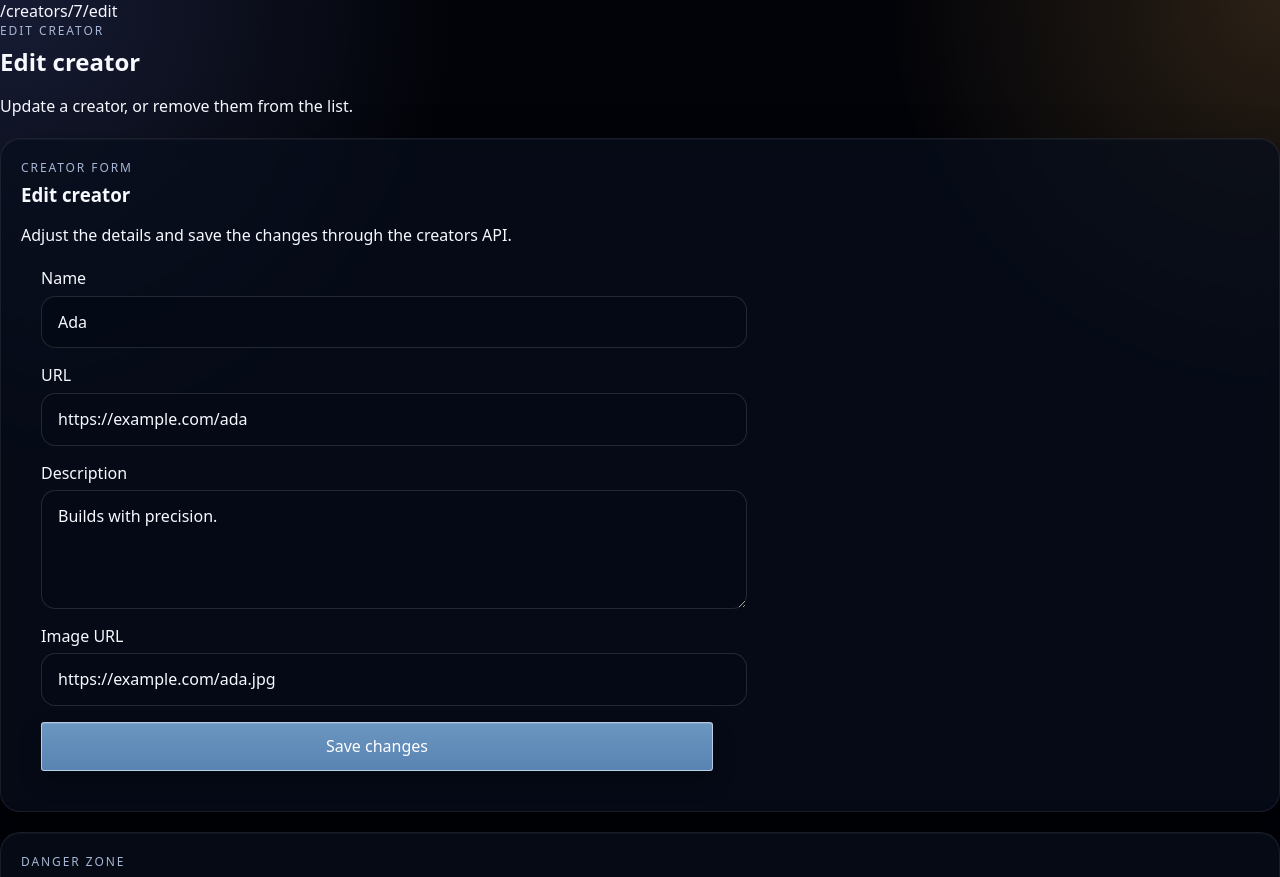
EditCreator › shows a readable error when update fails
Replace the text in the field labelled "Name" with "Ada Lovelace" at (394, 322), box [41,296,747,348]
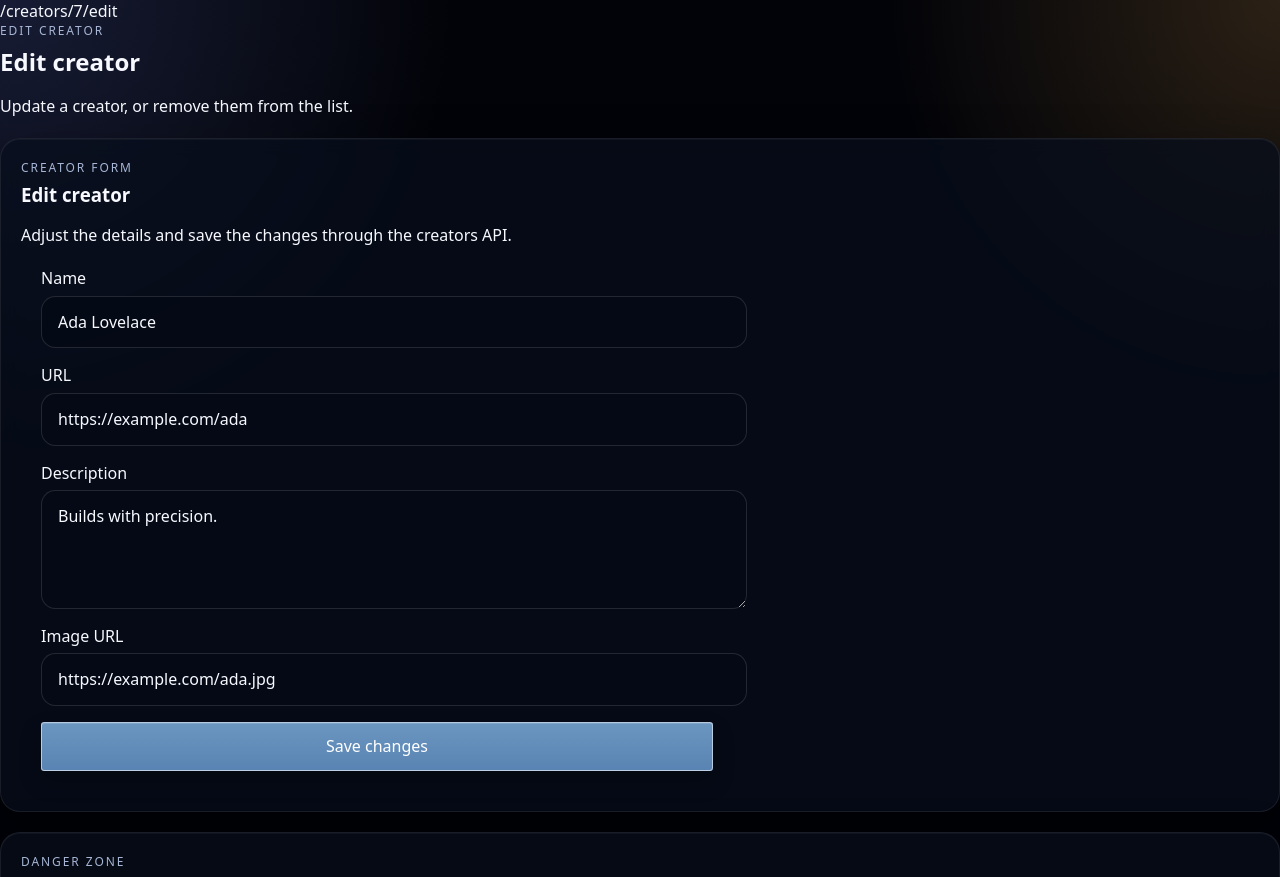
Click the button "Save changes" at (377, 746), box [41,722,713,771]
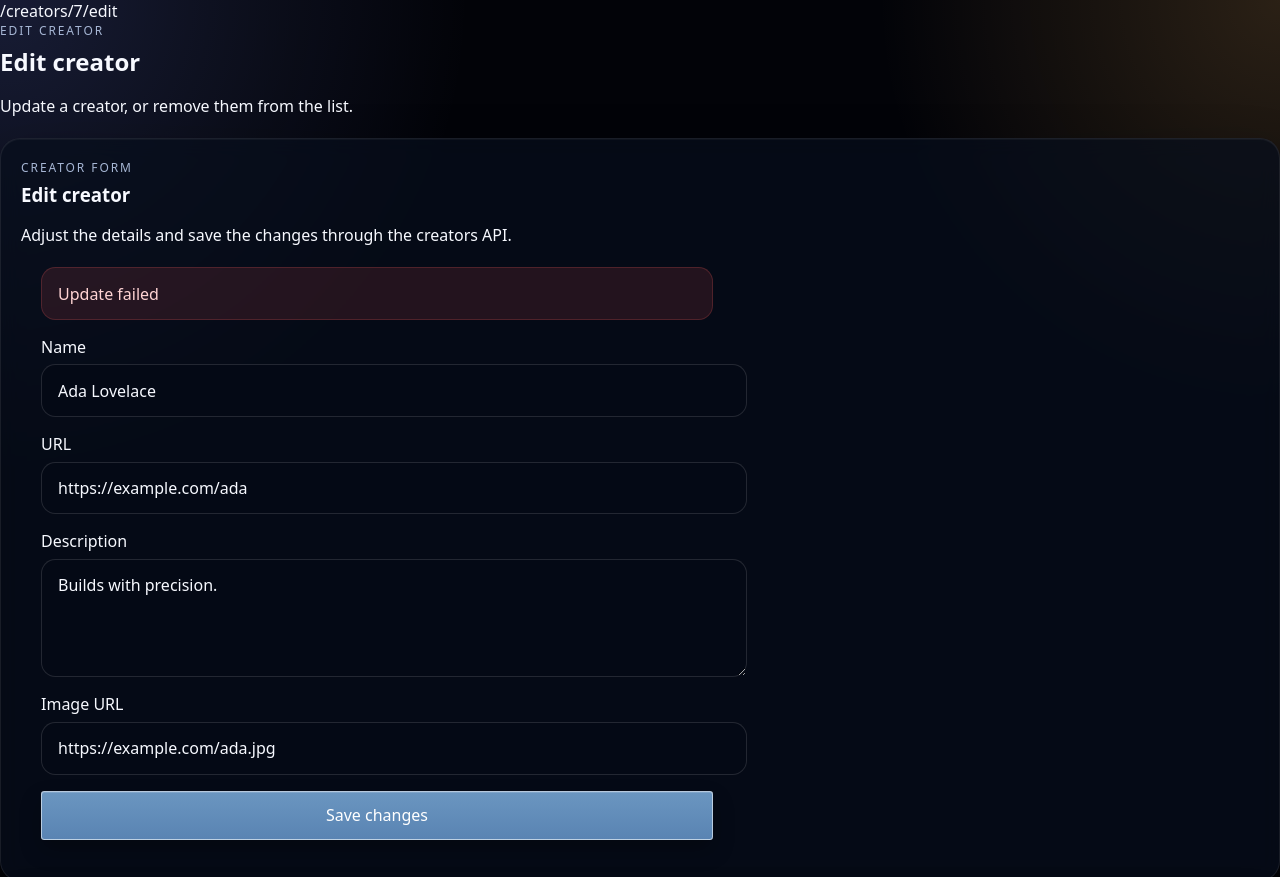
Expected: the text with test id "location" reads "/creators/7/edit", [0,0,118,22]
Now the message reads "Update failed", box [58,283,159,305]
